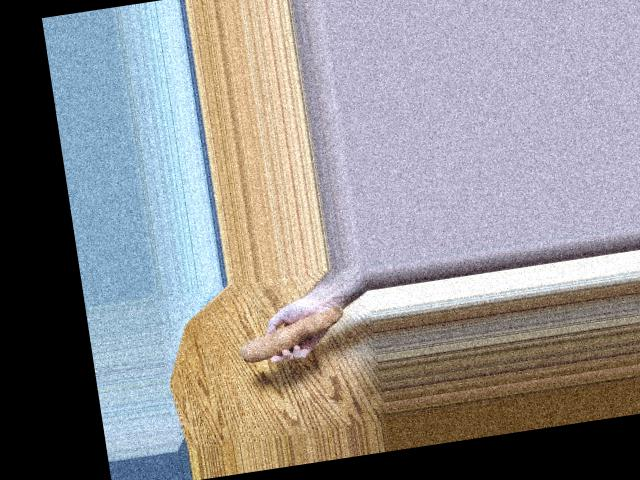sweet_potato: (240, 310, 343, 366)
